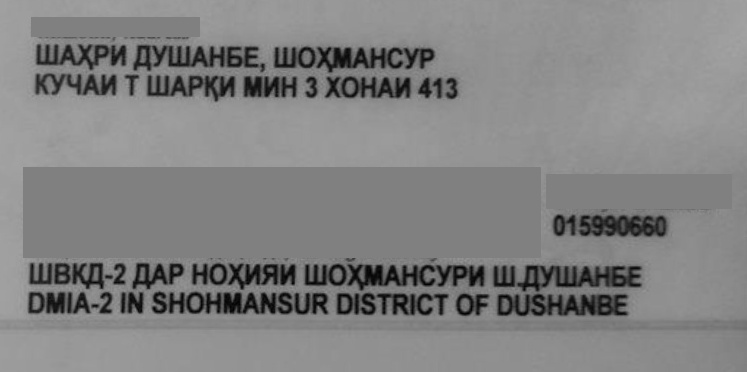0: (551, 209, 571, 237), (616, 209, 634, 237), (653, 210, 671, 238)
1: (432, 66, 446, 106), (565, 209, 581, 237)
2: (114, 253, 130, 295), (97, 285, 117, 317)
3: (305, 65, 321, 105), (445, 66, 461, 106)
4: (416, 66, 436, 106)
5: (577, 209, 595, 237)
6: (628, 209, 644, 237), (640, 210, 656, 238)
9: (590, 209, 608, 237), (603, 209, 621, 237)
А: (191, 35, 213, 75), (58, 34, 78, 74), (352, 36, 372, 76), (83, 65, 103, 103), (167, 65, 187, 103), (376, 66, 396, 104), (152, 255, 172, 293), (383, 256, 403, 294), (578, 257, 598, 295)
Б: (610, 257, 630, 295), (225, 35, 243, 75)
В: (52, 255, 72, 293)
Д: (87, 255, 107, 293), (134, 255, 152, 293), (136, 34, 152, 74), (522, 257, 538, 295)
Е: (626, 257, 650, 295), (241, 35, 259, 75)
И: (106, 34, 134, 74), (464, 257, 492, 295), (393, 66, 419, 104), (100, 65, 124, 103), (219, 65, 243, 103), (264, 66, 288, 104), (280, 256, 304, 294), (242, 256, 262, 294)
К: (69, 255, 87, 293), (38, 65, 50, 103)
М: (243, 66, 271, 104), (330, 36, 350, 76), (362, 256, 382, 294)
Н: (281, 66, 305, 104), (356, 66, 376, 104), (400, 256, 418, 294), (210, 35, 226, 75), (371, 37, 387, 77), (193, 255, 209, 293), (593, 257, 609, 295)
О: (321, 256, 345, 294), (296, 36, 318, 76), (208, 255, 228, 293), (342, 66, 358, 104)
Р: (418, 37, 442, 77), (170, 255, 192, 293), (185, 65, 203, 103), (92, 34, 108, 74), (450, 257, 466, 295)
С: (418, 256, 438, 294), (385, 37, 403, 77)
Т: (126, 65, 146, 103)
У: (402, 37, 420, 77), (151, 35, 167, 75), (48, 65, 64, 103), (436, 256, 452, 294), (541, 257, 557, 295)
Х: (327, 66, 343, 104)
Ч: (62, 65, 82, 103)
Ш: (162, 35, 186, 75), (550, 257, 572, 295), (38, 34, 58, 74), (275, 36, 295, 76), (31, 255, 49, 293), (149, 65, 165, 103), (306, 256, 322, 294), (495, 257, 511, 295)
Я: (260, 256, 280, 294)
Қ: (201, 65, 219, 103)
Ҳ: (347, 256, 367, 294), (226, 255, 244, 293), (78, 34, 94, 74), (319, 36, 335, 76)
